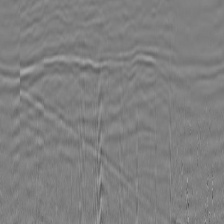cavities: (20, 70, 131, 131)
